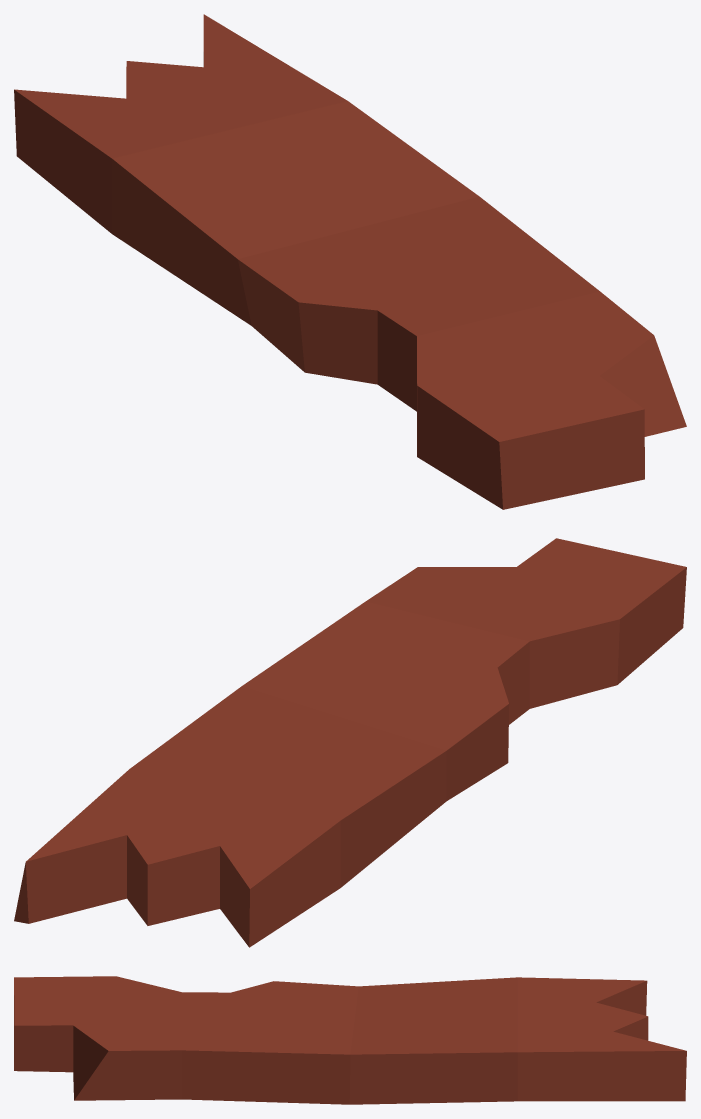
Rendered from woodboard_5a.fbx.
3 views of the same model, one above another, from view 1: azimuth 30°, elevation 25°; view 2: azimuth 150°, elevation 25°; view 3: azimuth 270°, elevation 25° (orthographic). The views are drawn at different scales.
Parts seen in each view (by area): view 1: woodboard_5a; view 2: woodboard_5a; view 3: woodboard_5a.
Part boxes in pixels (x1=…): woodboard_5a: x1=14, y1=14, x2=686, y2=509; woodboard_5a: x1=14, y1=538, x2=686, y2=947; woodboard_5a: x1=14, y1=976, x2=686, y2=1104.
Bounding box in the file's own units: 57.17 × 16.49 × 205.
